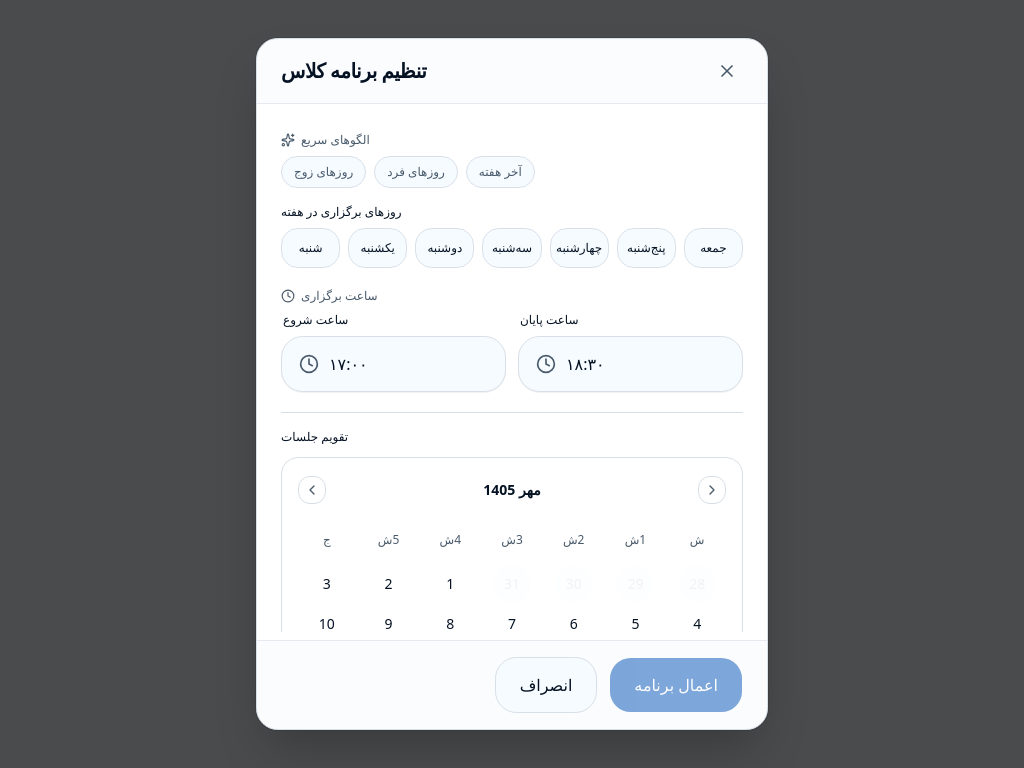
Scenario: ClassScheduleWizard Component › should select even days when clicking presetEven and calculate session count
Step 1. Click the button "روزهای زوج" → click(324, 172), box [281,156,366,188]
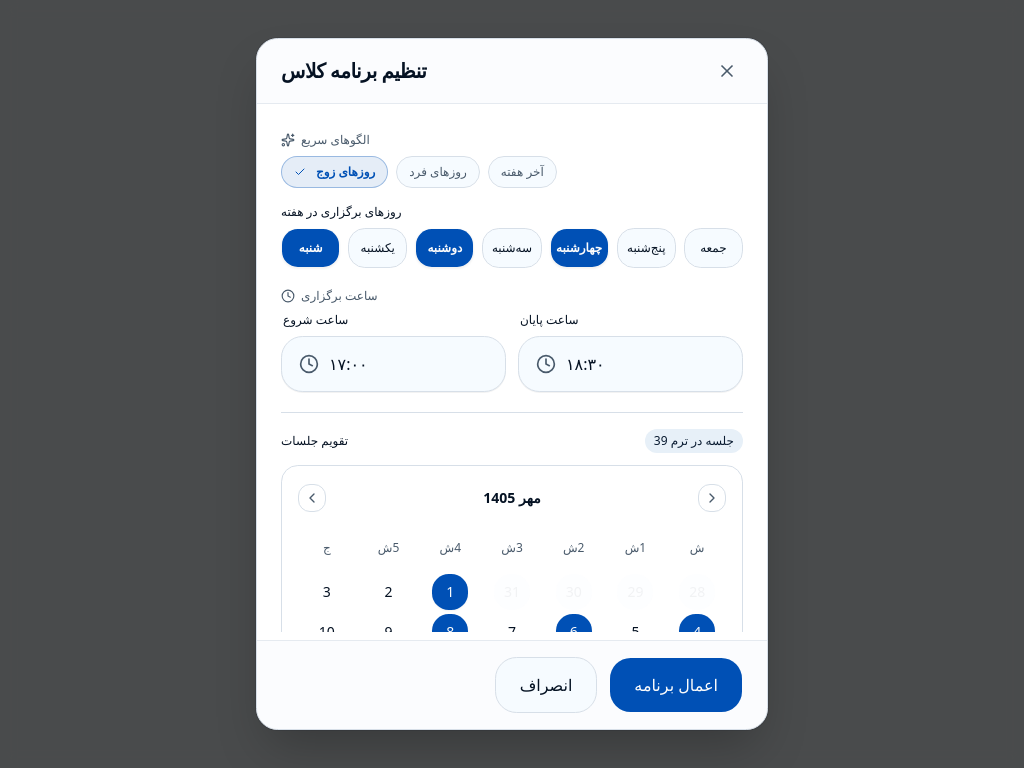
Check: the text "39 جلسه در ترم" is shown, box [645,429,743,453]
